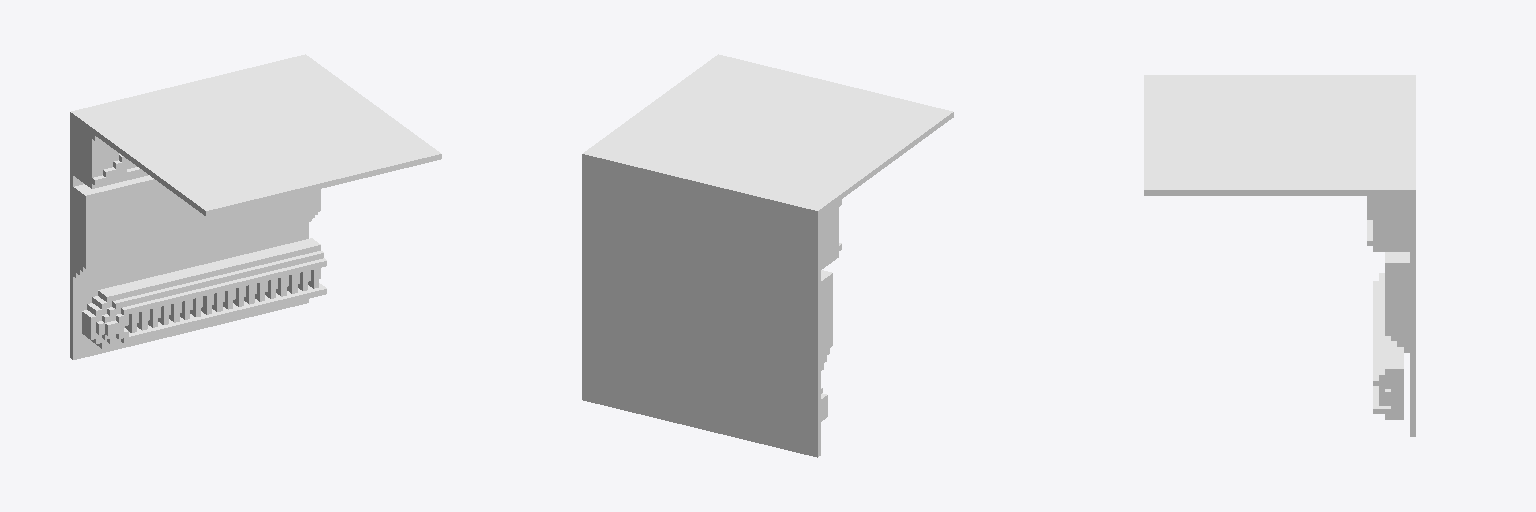
File: mesh_hanger_entrance_top_left_mid.obj
The picture shows the model from 3 angles: view 1: azimuth 30°, elevation 25°; view 2: azimuth 150°, elevation 25°; view 3: azimuth 270°, elevation 25°; orthographic projection.
Parts seen in each view (by area): view 1: object 1; view 2: object 1; view 3: object 1.
Boxes of the visible parts, x1,y1,x2,y2 form: object 1: [70, 54, 441, 359]; object 1: [582, 54, 953, 457]; object 1: [1144, 75, 1415, 436].
Bounding box in the file's own units: 4.4 × 4.4 × 4.4.